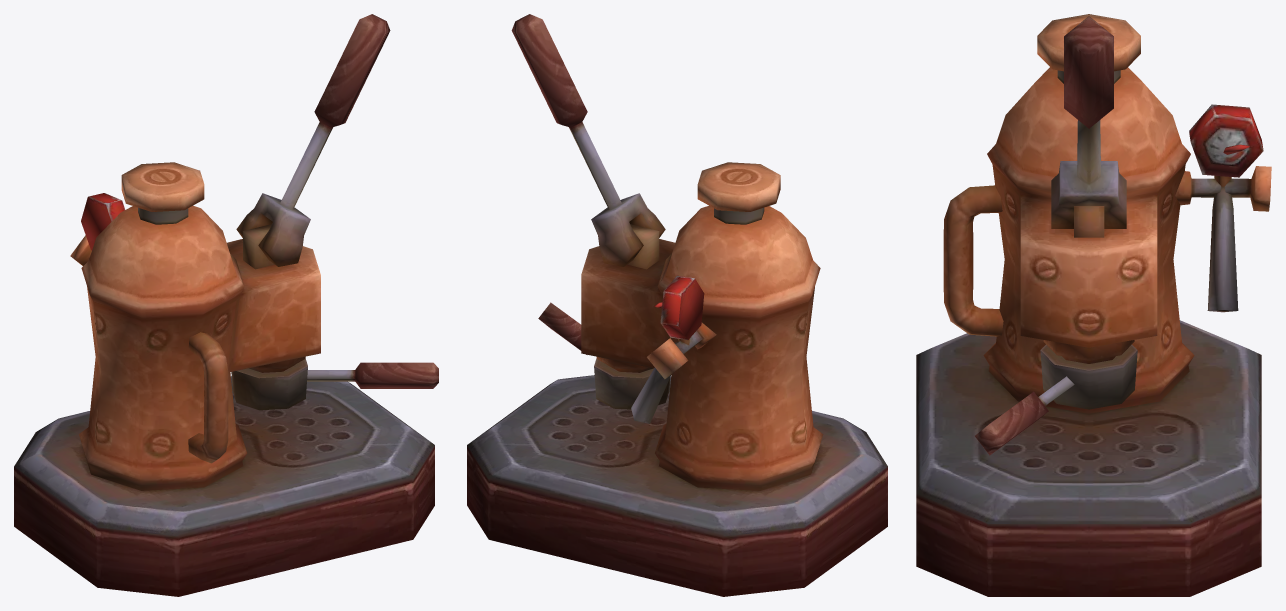
3 views of the same model, side by side, from view 1: azimuth 30°, elevation 25°; view 2: azimuth 150°, elevation 25°; view 3: azimuth 270°, elevation 25° (orthographic). The views are drawn at different scales.
Size of the model in its own units: 2.53 by 3.27 by 1.87.
1 material, 1 textured.
